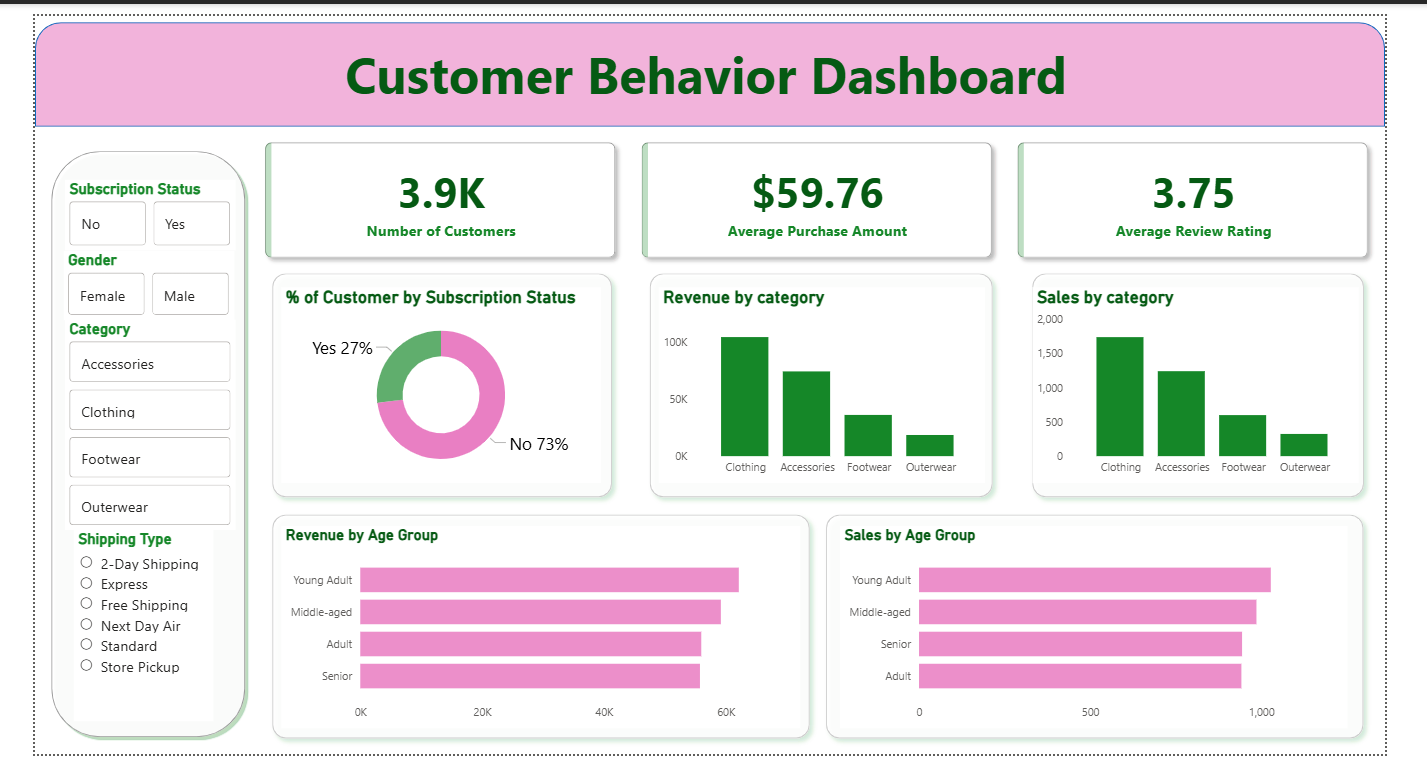

The dashboard page shown, as its layout file describes it:
{"tool":"powerbi","page":{"name":"Page 1","canvas":[1500,820],"ordinal":0},"visuals":[{"type":"cardVisual","fields":{"Data":["public customer.Number of Customers","public customer.Average Purchase Amount","public customer.Average Review Rating"]},"box":[239.3,123.2,1260.7,162.5],"z":0},{"type":"shape","box":[0,7.1,1500,116.1],"z":1000},{"type":"textbox","box":[0,21.4,1500,123.2],"z":2000},{"type":"shape","box":[253.6,276.8,396.4,267.9],"z":3000},{"type":"donutChart","title":"% of Customer by Subscription Status","fields":{"Category":["public customer.subscription_status"],"Y":["CountNonNull(public customer.customer_id)"]},"box":[273.2,301.8,355.4,217.9],"z":4000},{"type":"shape","box":[1098.2,276.8,387.5,267.9],"z":5000},{"type":"shape","box":[674.1,276.8,400,267.9],"z":6000},{"type":"clusteredColumnChart","title":"Revenue by category","fields":{"Y":["Sum(public customer.purchase_amount)"],"Category":["public customer.category"]},"box":[692.9,301.8,362.5,217.9],"z":7000},{"type":"clusteredColumnChart","title":"Sales by category","fields":{"Y":["CountNonNull(public customer.customer_id)"],"Category":["public customer.category"]},"box":[1108.9,301.8,362.5,217.9],"z":8000},{"type":"shape","box":[12.5,144.6,226.8,662.5],"z":9000},{"type":"advancedSlicerVisual","title":"Subscription Status","fields":{"Values":["public customer.subscription_status"]},"box":[33.9,182.1,189.3,78.6],"z":10000},{"type":"advancedSlicerVisual","title":"Gender","fields":{"Values":["public customer.gender"]},"box":[32.1,260.7,189.3,76.8],"z":11000},{"type":"advancedSlicerVisual","title":"Category ","fields":{"Values":["public customer.category"]},"box":[33.9,337.5,189.3,233.9],"z":12000},{"type":"listSlicer","title":"Shipping Type","fields":{"Values":["public customer.shipping_type"]},"box":[42.9,571.4,155.4,212.5],"z":13000},{"type":"shape","box":[869.6,544.6,616.1,267.9],"z":14000},{"type":"shape","box":[253.6,544.6,616.1,267.9],"z":15000},{"type":"clusteredBarChart","title":"Revenue by Age Group","fields":{"Y":["Sum(public customer.purchase_amount)"],"Category":["public customer.age_group"]},"box":[273.2,566.1,576.8,225],"z":16000},{"type":"clusteredBarChart","title":"Sales by Age Group","fields":{"Category":["public customer.age_group"],"Y":["CountNonNull(public customer.customer_id)"]},"box":[894.6,566.1,564.3,225],"z":17000}]}

Visuals, with their boxes in screenshot pixels (x1, y1, x2, y2), scaled from the page's 1500x820 canvas onto the 1427x783 screenshot:
cardVisual - public customer.Number of Customers x public customer.Average Purchase Amount: (228,118,1426,273)
shape: (0,7,1426,118)
textbox: (0,20,1426,138)
shape: (241,264,618,520)
"% of Customer by Subscription Status" donutChart: (260,288,598,496)
shape: (1045,264,1413,520)
shape: (641,264,1022,520)
"Revenue by category" clusteredColumnChart: (659,288,1004,496)
"Sales by category" clusteredColumnChart: (1055,288,1400,496)
shape: (12,138,228,771)
"Subscription Status" advancedSlicerVisual: (32,174,212,249)
"Gender" advancedSlicerVisual: (31,249,211,322)
"Category " advancedSlicerVisual: (32,322,212,546)
"Shipping Type" listSlicer: (41,546,189,749)
shape: (827,520,1413,776)
shape: (241,520,827,776)
"Revenue by Age Group" clusteredBarChart: (260,541,809,755)
"Sales by Age Group" clusteredBarChart: (851,541,1388,755)
